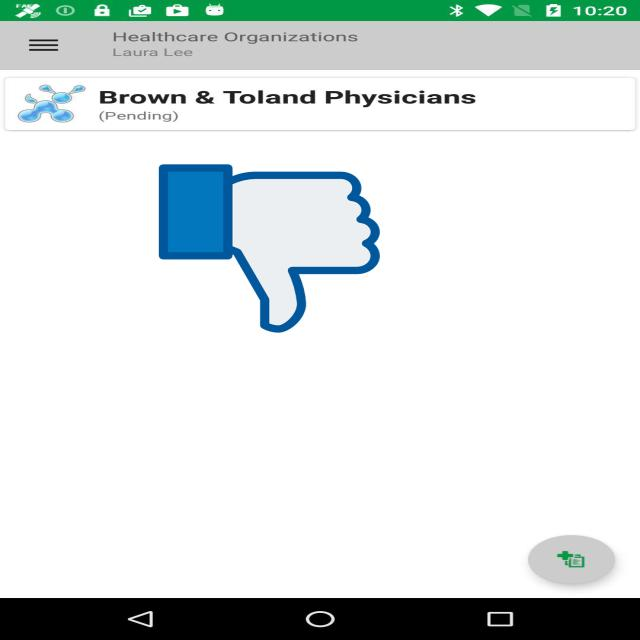obstruction: (159, 161, 380, 336)
